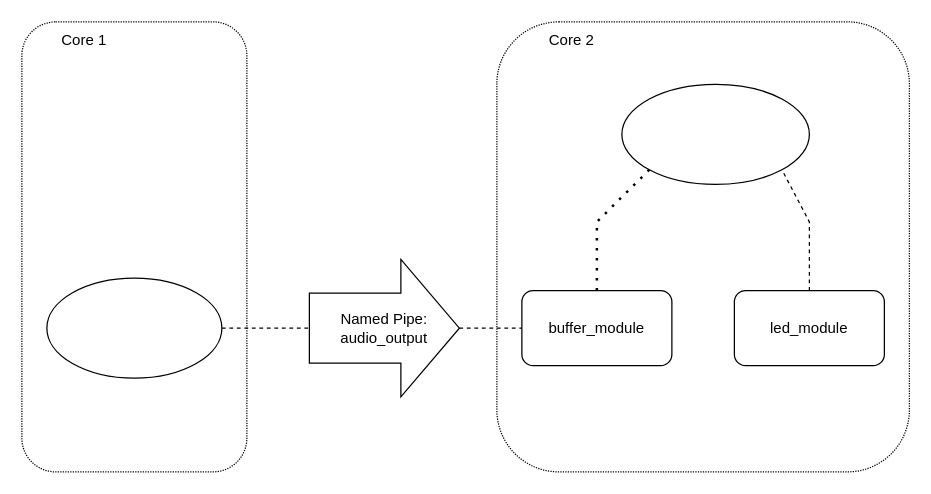
This 931x494 diagram has some shape labels left out. Each missing label, with the box of its shape:
audio_processing.py: (46, 277, 222, 378)
cv_and_led.py: (621, 83, 809, 184)
